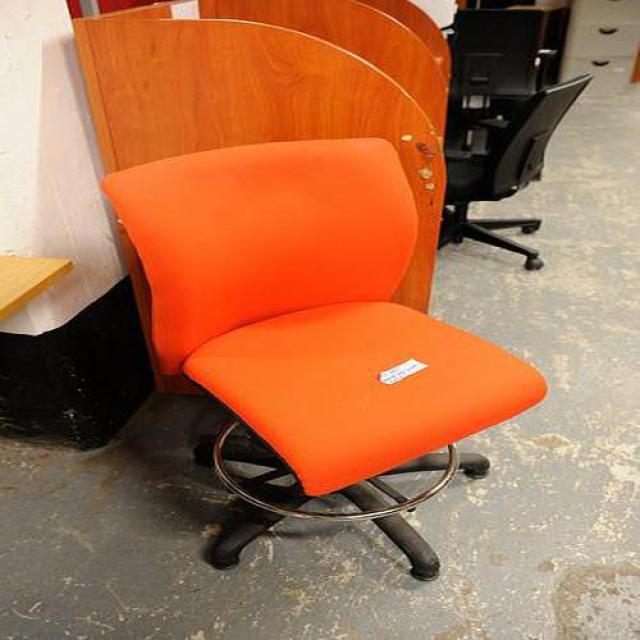swivelchair: (72, 0, 549, 581)
